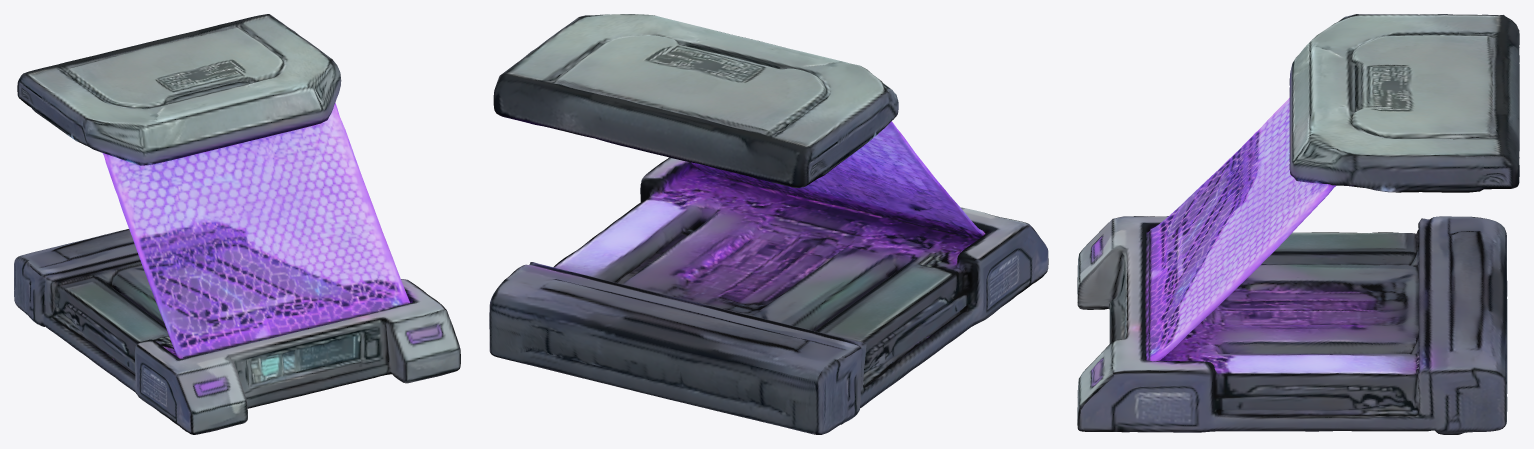
Rendered from shield_pink_prop_1.fbx.
3 renders of one model, left to right at view 1: azimuth 30°, elevation 25°; view 2: azimuth 150°, elevation 25°; view 3: azimuth 270°, elevation 25°, orthographic. The views are drawn at different scales.
Visible parts, largest first — view 1: model; view 2: model; view 3: model.
Part boxes in pixels (box(x1,y1,x2,y2)): model: box(14, 14, 460, 434); model: box(489, 14, 1048, 434); model: box(1077, 14, 1519, 434).
Size of the model in its own units: 160 by 131 by 190.
